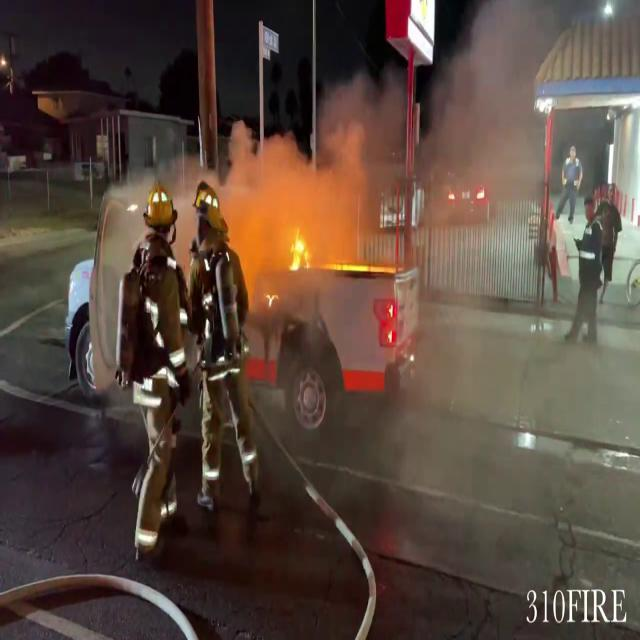Fire: (286, 221, 314, 277)
Smoke: (210, 68, 414, 292), (421, 0, 586, 256)
